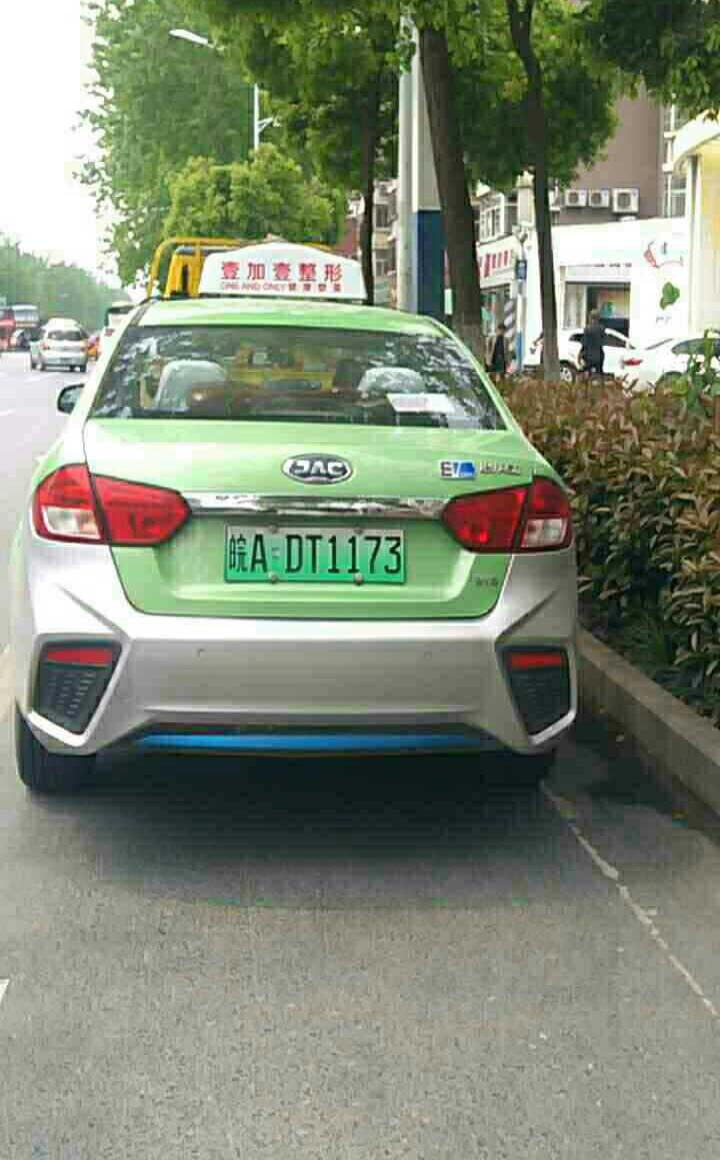car_green: (215, 523, 414, 587)
